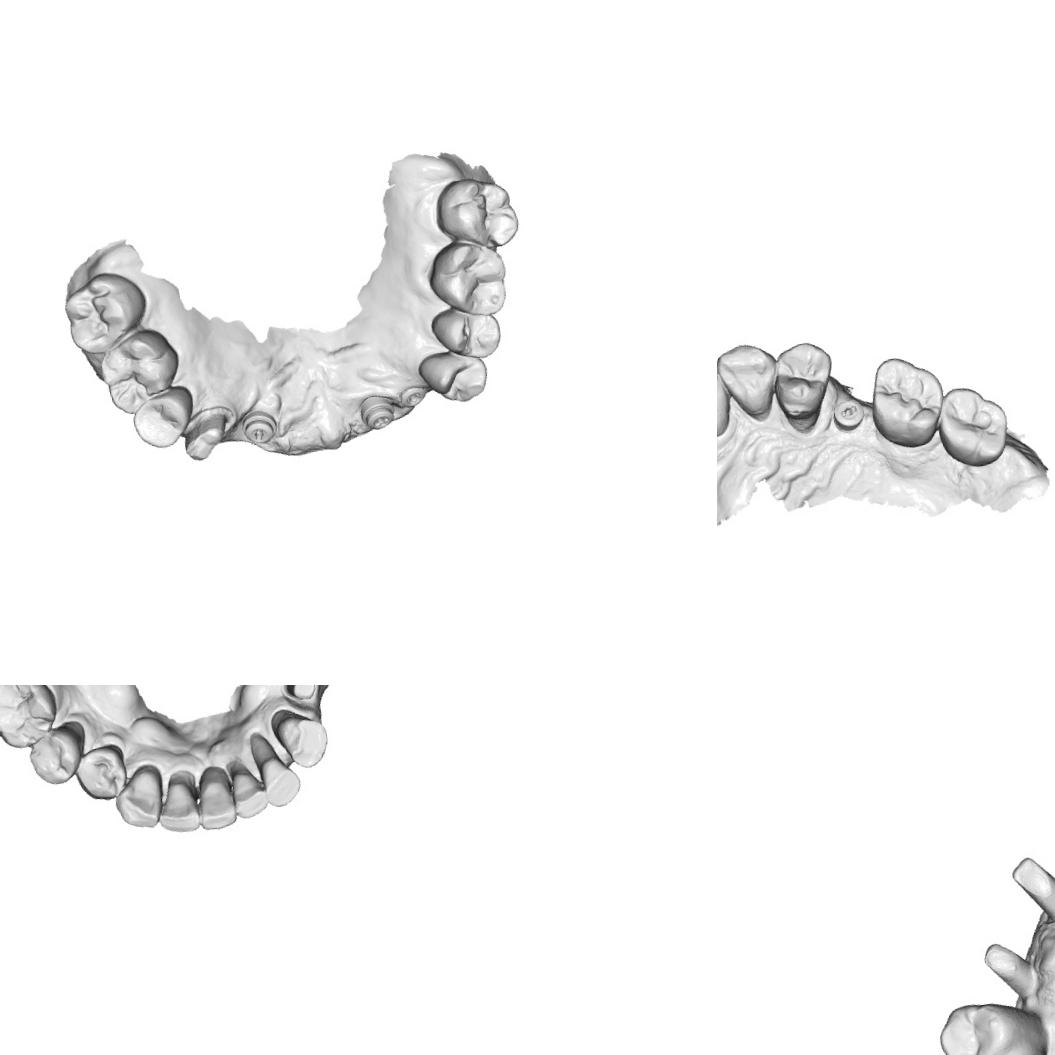abutment: (979, 932, 1048, 1006), (1004, 848, 1055, 931), (278, 685, 322, 707)
canine: (717, 338, 786, 430), (107, 766, 172, 836), (272, 706, 334, 774)
crown: (178, 406, 238, 466)
implant: (397, 381, 428, 411)
implant_minus: (238, 405, 280, 448), (830, 396, 868, 435)
implant_plus: (356, 390, 398, 433)
incisor: (256, 750, 307, 810), (191, 774, 241, 834), (153, 777, 202, 837), (228, 766, 272, 821), (717, 361, 736, 446)
molar: (58, 264, 154, 360), (864, 350, 952, 454), (93, 324, 188, 420), (423, 234, 515, 326), (428, 170, 524, 257), (930, 380, 1016, 474), (0, 685, 67, 756)
premolar: (768, 338, 842, 437), (931, 993, 1034, 1055), (127, 381, 200, 453), (427, 300, 505, 366), (415, 345, 492, 410), (24, 722, 88, 790), (70, 742, 134, 807)
